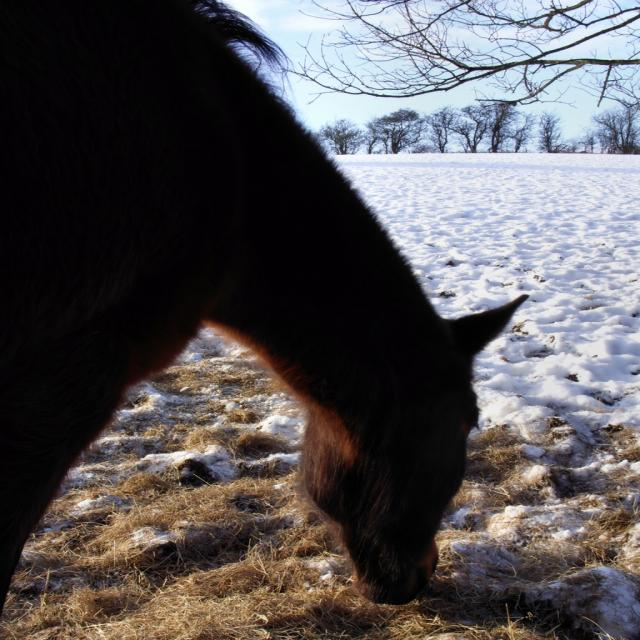Horse: (0, 0, 530, 611)
